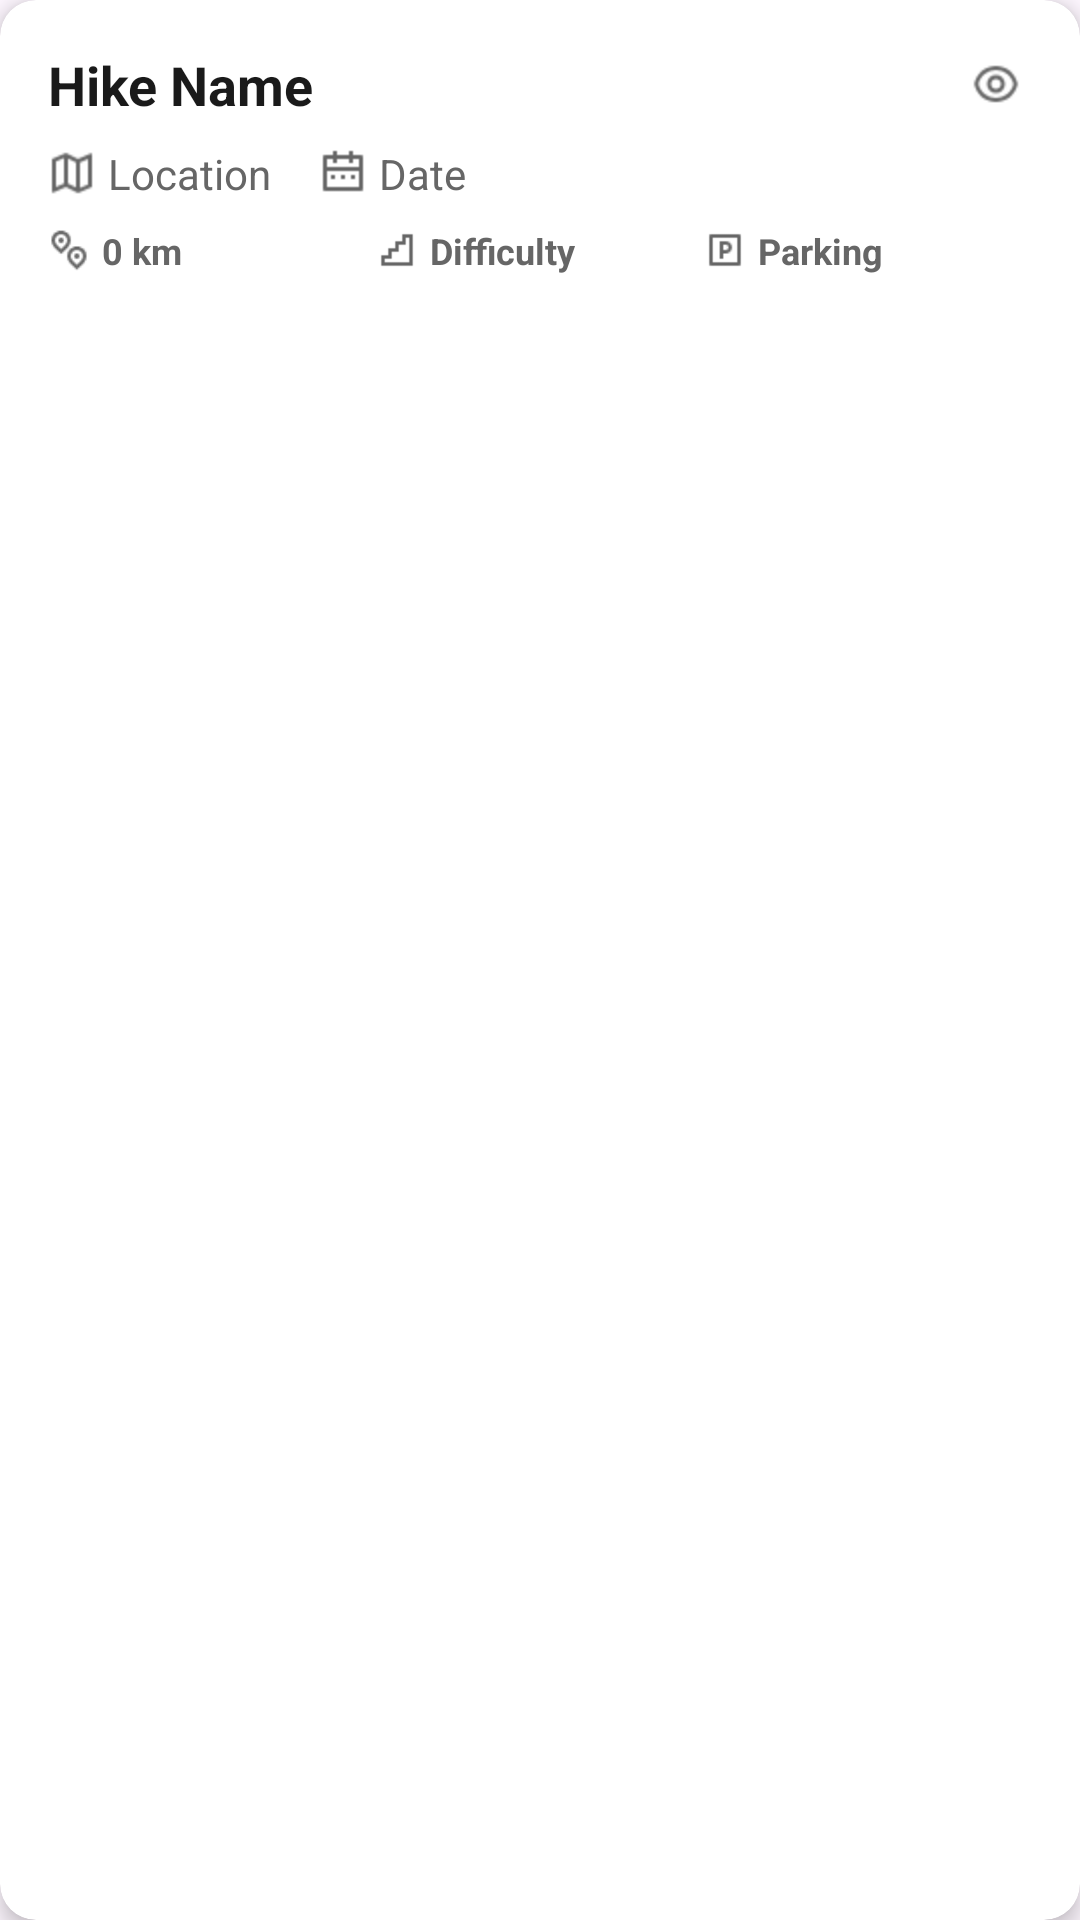

Screen size 1080w x 1920h. Icon name, then its center in pixels as [x,y]:
calendar line: [343,171]
eye line: [996,84]
map line: [72,173]
pin distance line: [69,250]
stairs line: [397,250]
